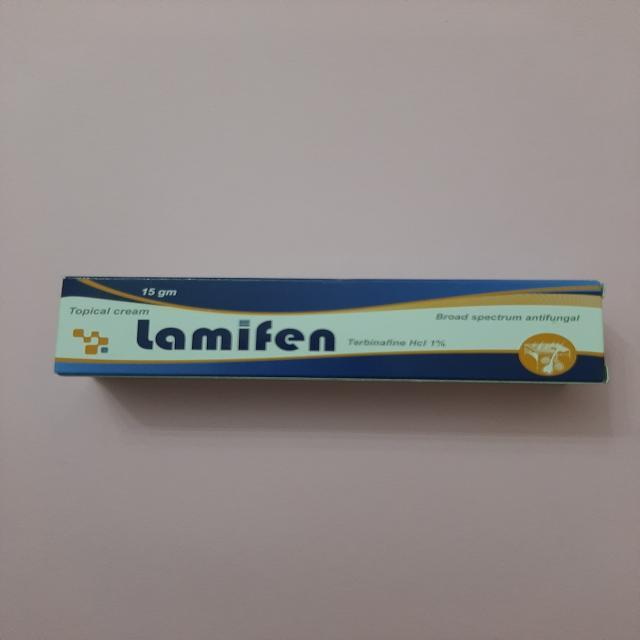Medicine Name: (129, 315, 344, 356)
